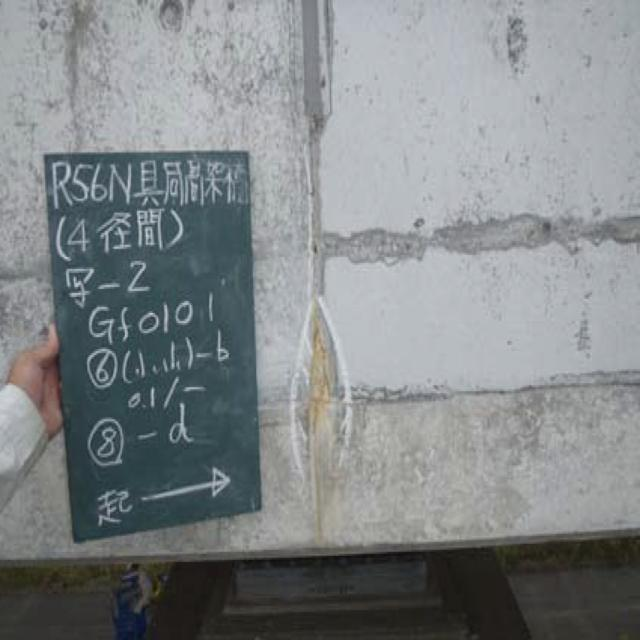freelime: (297, 300, 353, 481)
